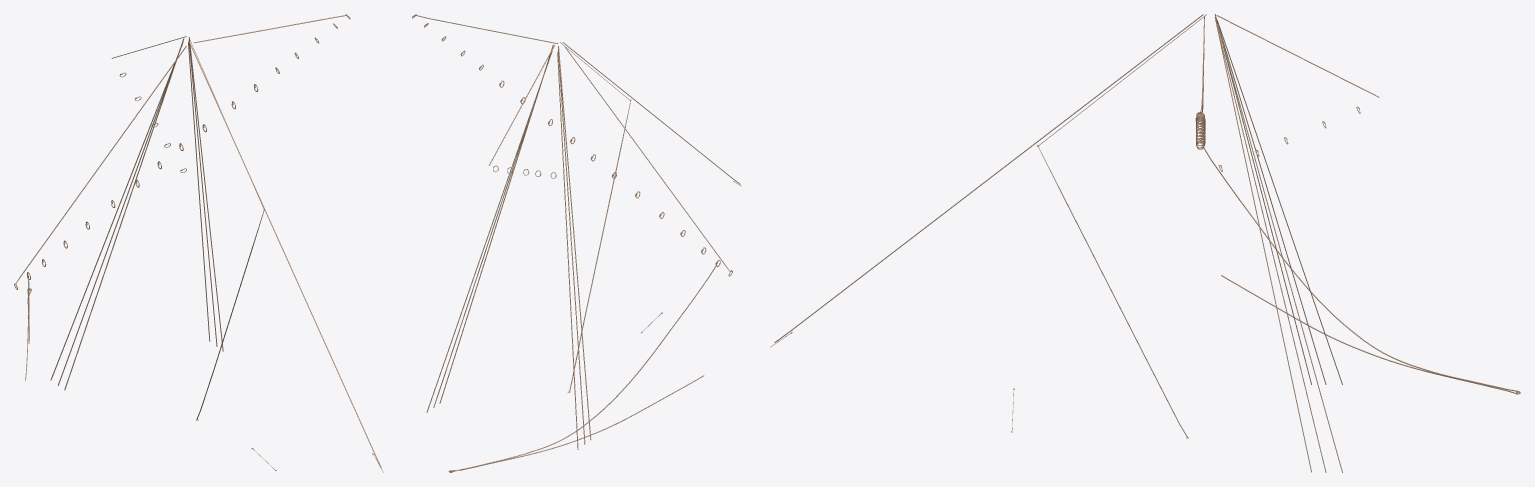
File: Rope_Seam_Test.fbx
3 renders of one model, left to right at view 1: azimuth 30°, elevation 25°; view 2: azimuth 150°, elevation 25°; view 3: azimuth 270°, elevation 25°, orthographic. The views are drawn at different scales.
Visible parts, largest first — view 1: Wrapped_Rope_low22; view 2: Wrapped_Rope_low22; view 3: Wrapped_Rope_low22.
Part boxes in pixels (left/top/right/bottom): Wrapped_Rope_low22: left=14, top=14, right=383, bottom=472; Wrapped_Rope_low22: left=412, top=14, right=741, bottom=472; Wrapped_Rope_low22: left=770, top=14, right=1520, bottom=472.
Bounding box in the file's own units: 33.34 × 35.59 × 57.02.
1 material, 1 textured.
